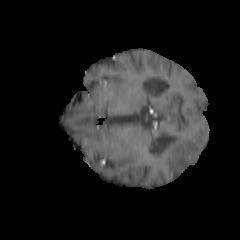glioma: (162, 137, 199, 173)
